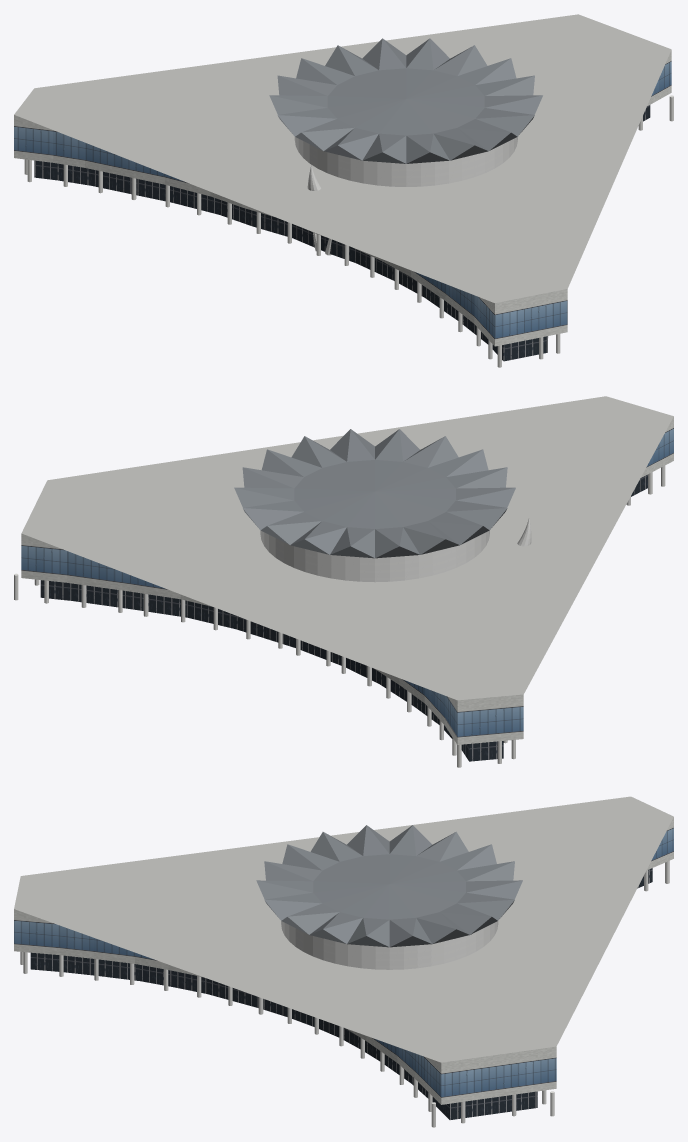
Rendered from lome_palais_congres.glb.
3 renders of one model, top to bottom at view 1: azimuth 30°, elevation 25°; view 2: azimuth 150°, elevation 25°; view 3: azimuth 270°, elevation 25°, orthographic. The views are drawn at different scales.
Visible parts, largest first — view 1: pdc_ailes, pdc_couronne, pdc_salle, pdc_pilotis; view 2: pdc_ailes, pdc_couronne, pdc_salle, pdc_pilotis; view 3: pdc_ailes, pdc_couronne, pdc_salle, pdc_pilotis.
Boxes of the visible parts, x1,y1,x2,y2 form: pdc_ailes: (14,14,671,361); pdc_couronne: (269,38,542,163); pdc_salle: (294,137,517,186); pdc_pilotis: (24,95,673,367); pdc_ailes: (21,396,673,761); pdc_couronne: (234,429,515,558); pdc_salle: (260,530,489,582); pdc_pilotis: (14,465,665,767); pdc_ailes: (14,796,673,1120); pdc_couronne: (256,825,522,947); pdc_salle: (281,921,498,969); pdc_pilotis: (20,861,669,1127).
Size of the model in its own units: 122 by 23.66 by 128.
6 materials, 3 textured.
